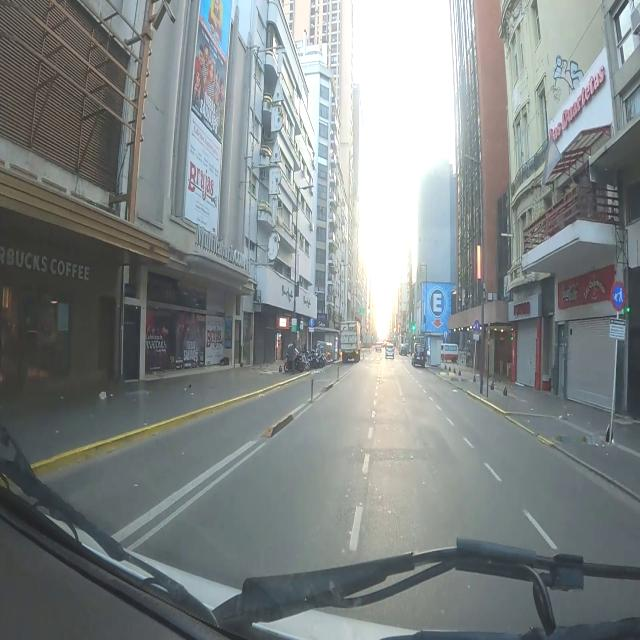car: (412, 344, 427, 367), (385, 345, 394, 358), (376, 343, 381, 351)
